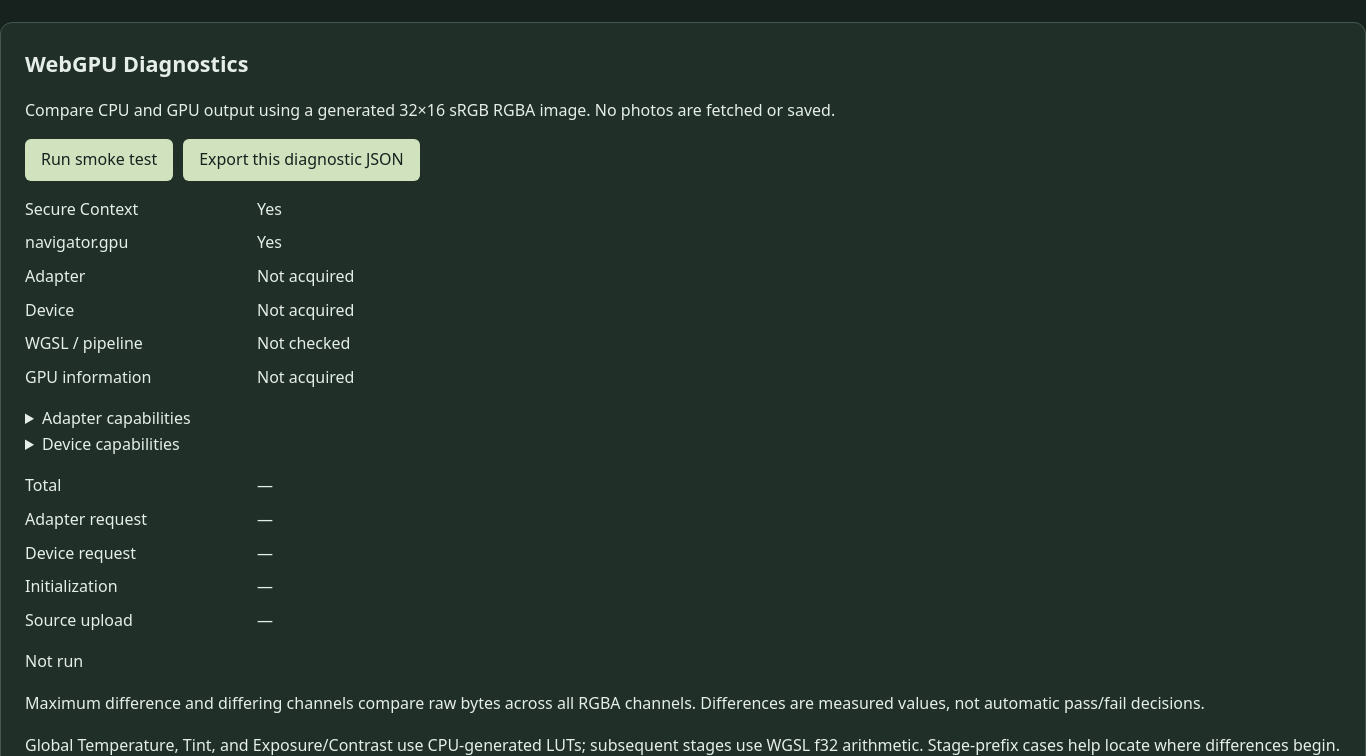
Test: translates successful execution and safely shows optional adapter info in en
Click the button "Run smoke test" at [99, 160], box [25,139,173,181]
(page scrolled)
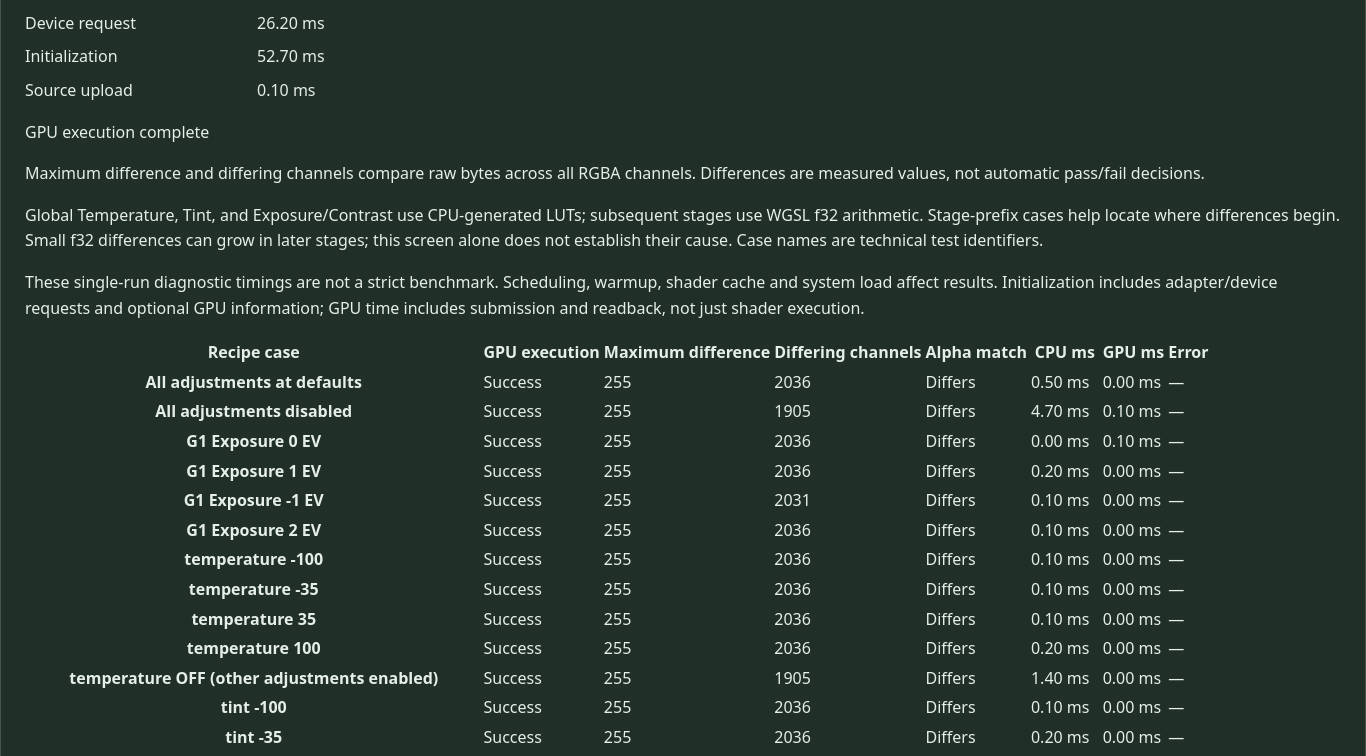
expect the text "GPU execution complete" is shown: met, box [25,121,209,143]
expect the row that starts with "All adjustments at defaults" reads "All adjustments at defaults Success 255 2036 Differs 0.50 ms 0.00 ms —": met, box [1031,371,1089,393]
